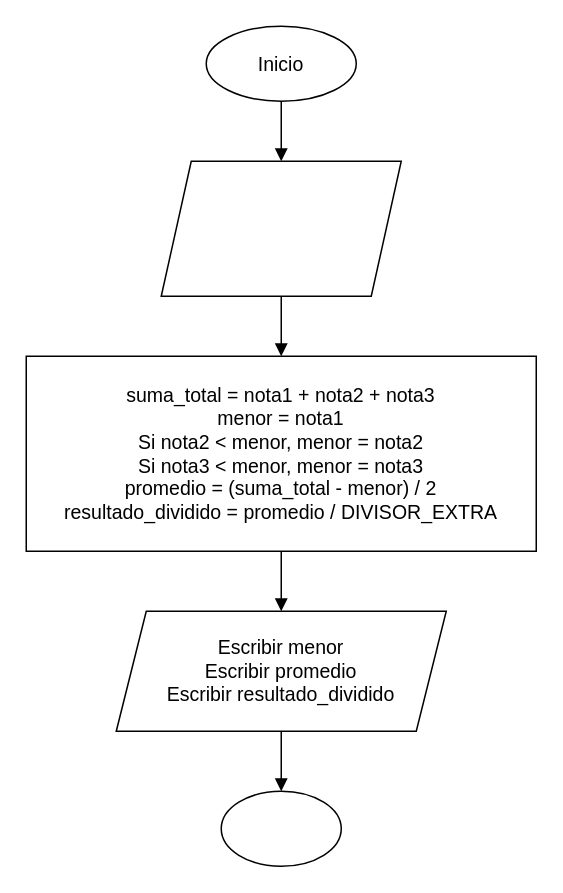
This 563x893 diagram has some shape labels left out. Each missing label, with the centre of its shape:
Fin: (x=280, y=828)
Leer nota1 Leer nota2 Leer nota3: (x=280, y=228)
